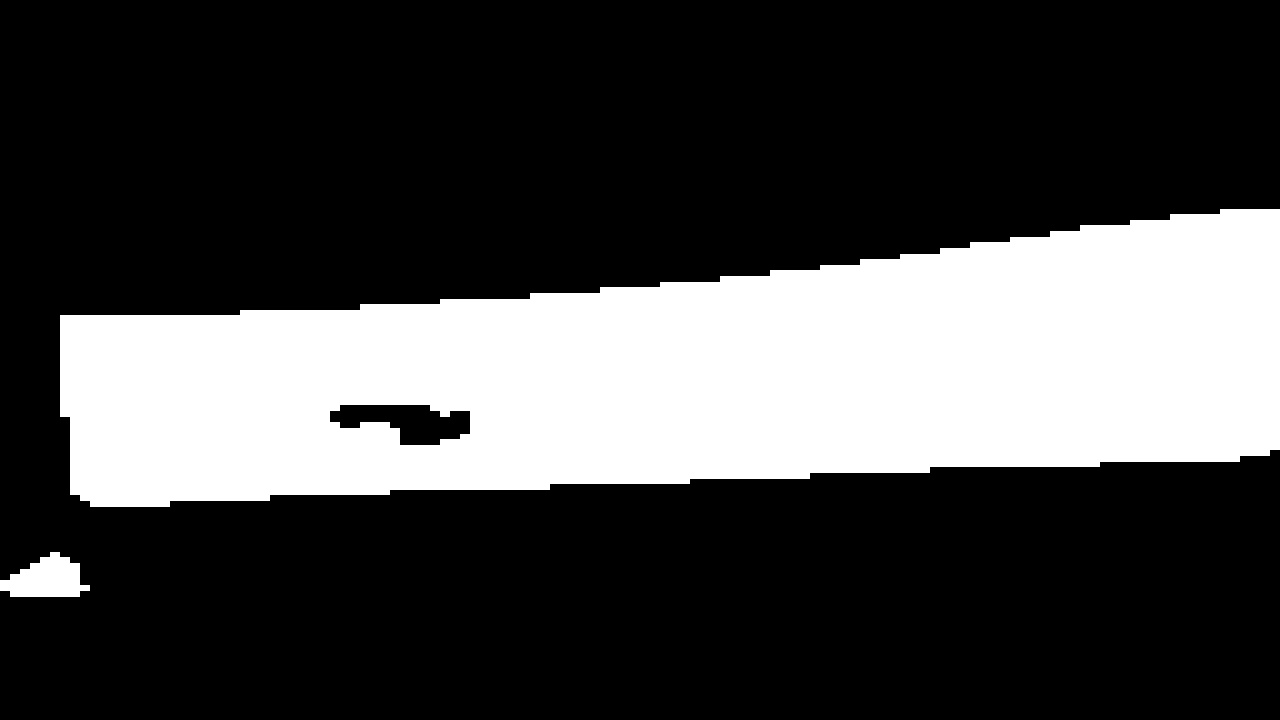Turbine: (31, 181, 1271, 512)
